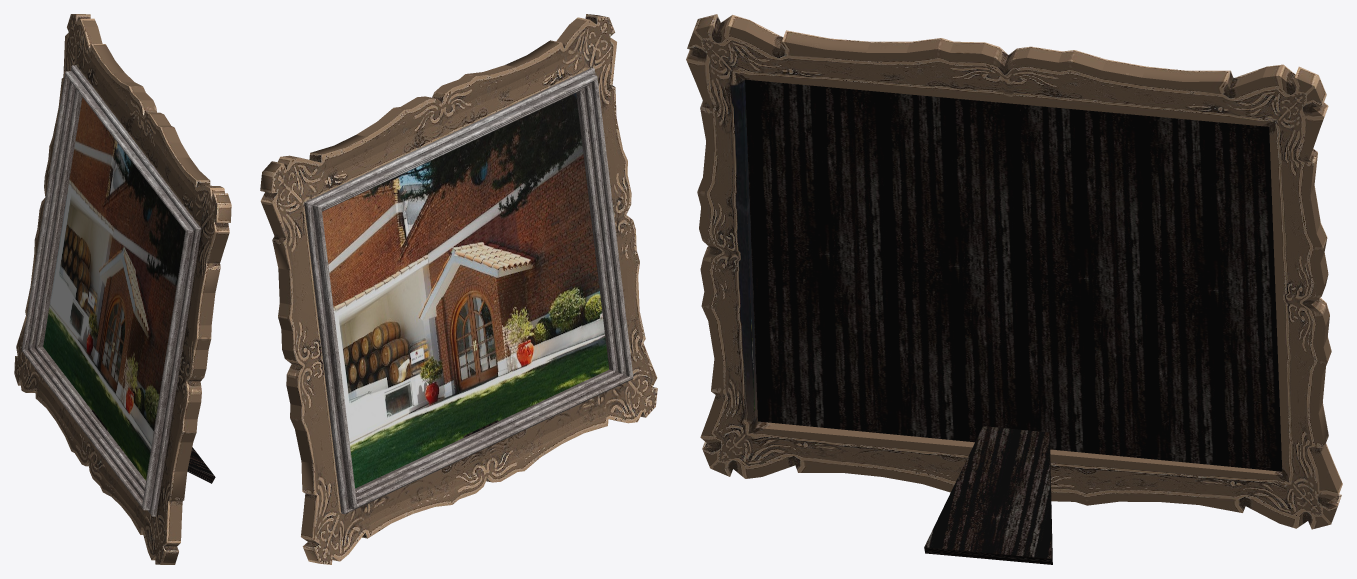
Rendered from retrato.glb.
3 renders of one model, left to right at view 1: azimuth 30°, elevation 25°; view 2: azimuth 150°, elevation 25°; view 3: azimuth 270°, elevation 25°, orthographic. The views are drawn at different scales.
Parts seen in each view (by area): view 1: PR_Frame, PR_Pe; view 2: PR_Frame; view 3: PR_Fnd, PR_Frame, PR_Pe.
Boxes of the visible parts, x1,y1,x2,y2 form: PR_Frame: [14, 14, 231, 564]; PR_Pe: [92, 409, 215, 483]; PR_Frame: [260, 14, 657, 564]; PR_Fnd: [745, 79, 1282, 471]; PR_Frame: [686, 14, 1342, 529]; PR_Pe: [924, 426, 1052, 564].
Size of the model in its own units: 0.243 by 0.5637 by 0.6843.
2 materials, 2 textured.
